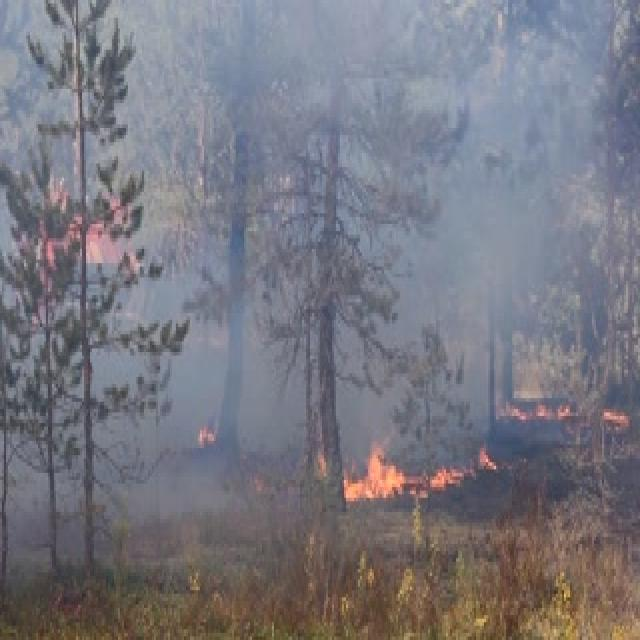Fire: (346, 444, 436, 508)
